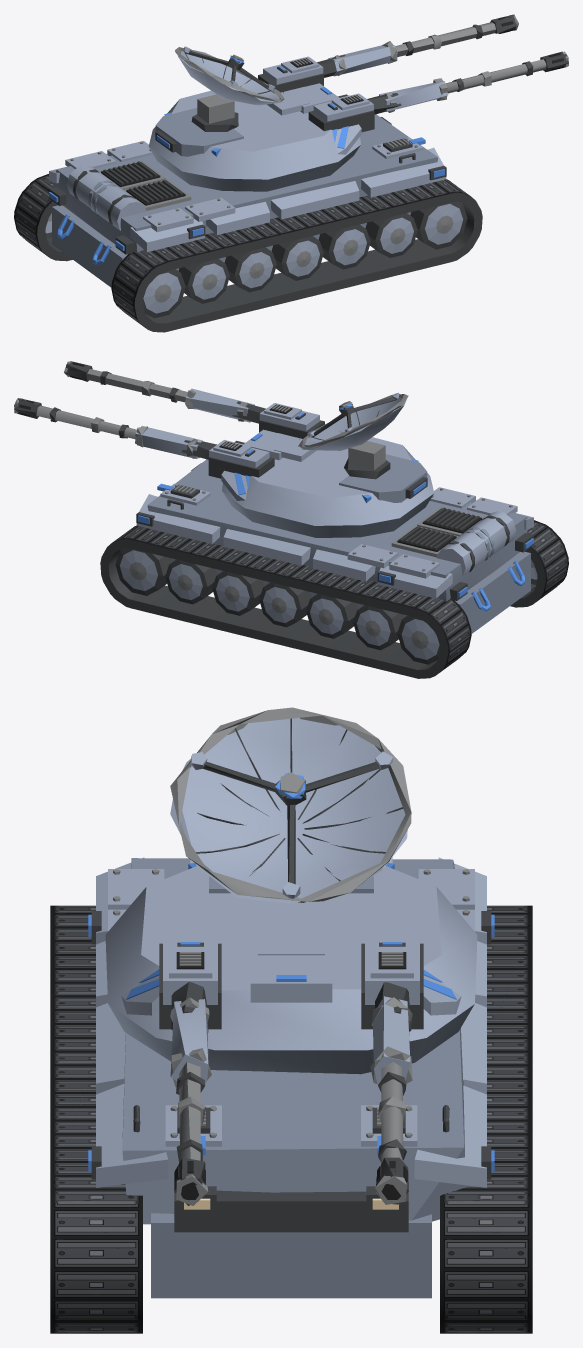
The model's file is flak.glb.
3 renders of one model, top to bottom at view 1: azimuth 30°, elevation 25°; view 2: azimuth 150°, elevation 25°; view 3: azimuth 270°, elevation 25°, orthographic. The views are drawn at different scales.
Visible parts, largest first — view 1: Hull, TrackR, Turret, Gun, Dish, TrackL, WheelT7, WheelT11, WheelT10, WheelT8, WheelT9, WheelT12 (+1 smaller); view 2: Hull, TrackL, Turret, Gun, Dish, TrackR, WheelT0, WheelT4, WheelT3, WheelT2, WheelT1, WheelT5 (+1 smaller); view 3: Hull, Turret, Dish, TrackR, TrackL, Gun.
Boxes of the visible parts, x1,y1,x2,y2 form: Hull: (49,94,446,287); TrackR: (111,179,482,332); Turret: (148,56,369,191); Gun: (258,14,568,132); Dish: (175,46,284,131); TrackL: (14,174,72,261); WheelT7: (410,201,467,249); WheelT11: (224,247,276,292); WheelT10: (271,236,323,280); WheelT8: (365,213,417,257); WheelT9: (318,224,370,269); WheelT12: (178,258,229,303); Hull: (136,440,533,633); TrackL: (100,525,471,678); Turret: (213,403,434,537); Gun: (14,361,324,478); Dish: (298,392,408,479); TrackR: (510,520,568,607); WheelT0: (115,548,172,595); WheelT4: (306,593,358,638); WheelT3: (259,582,311,627); WheelT2: (212,571,264,615); WheelT1: (165,559,217,604); WheelT5: (353,605,404,650); Hull: (88,857,494,1298); Turret: (105,863,477,1074); Dish: (170,707,411,903); TrackR: (50,905,142,1333); TrackL: (440,905,532,1333); Gun: (159,935,423,1205).
Bounding box in the file's own units: 11.25 × 4.84 × 5.04.
Materials: 8 (1 with a texture image).
